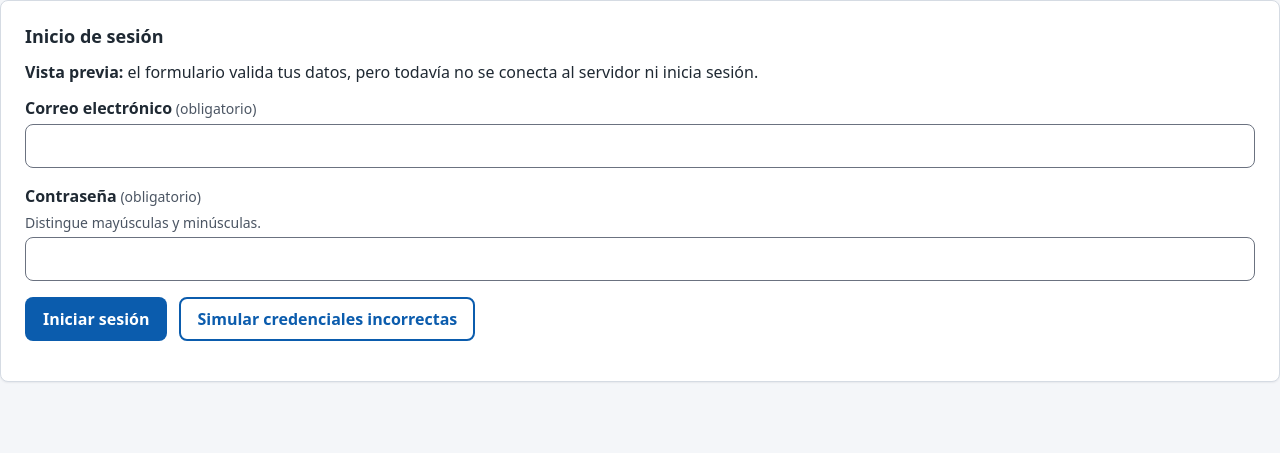
Test case: FormularioLoginDemo (integración de InputField, Button y Card) › al enviar vacío muestra los errores junto a cada campo y enfoca el primero (3.3.1, RNF-01-AC-2)
What coordinates should you click on to do the following:
click the button "Iniciar sesión"
I would click on:
 (96, 319)
Its box is left=25, top=297, right=168, bottom=341.
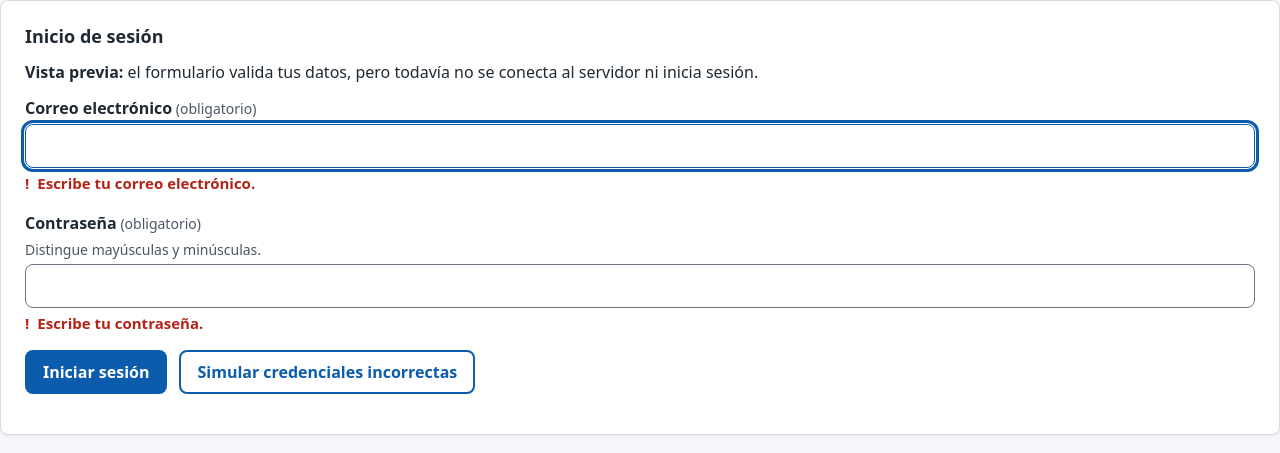
Expected: the password field labelled "Contraseña (obligatorio)" is marked as invalid, left=25, top=264, right=1255, bottom=308
